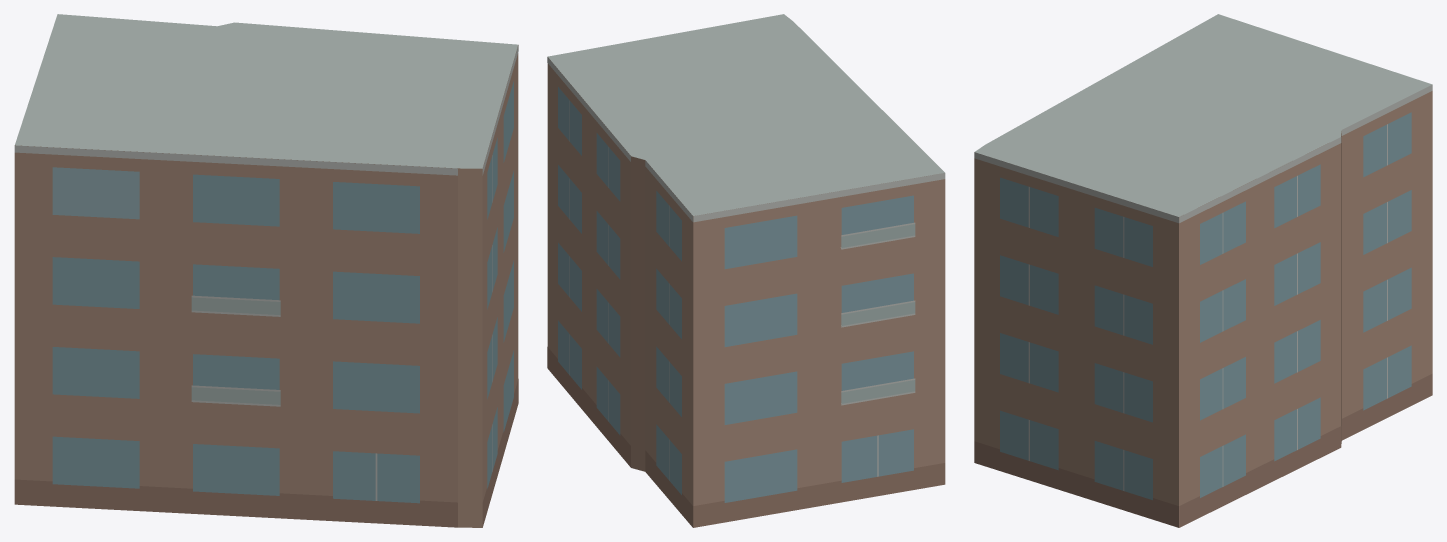
Rendered from survey-upis-32672707.glb.
3 views of the same model, side by side, from view 1: azimuth 30°, elevation 25°; view 2: azimuth 150°, elevation 25°; view 3: azimuth 270°, elevation 25° (orthographic). The views are drawn at different scales.
Parts seen in each view (by area): view 1: survey-upis-32672707.tmp; view 2: survey-upis-32672707.tmp; view 3: survey-upis-32672707.tmp.
Boxes of the visible parts, x1,y1,x2,y2 form: survey-upis-32672707.tmp: [14, 14, 518, 527]; survey-upis-32672707.tmp: [547, 14, 945, 527]; survey-upis-32672707.tmp: [974, 14, 1432, 527].
Size of the model in its own units: 17.11 by 12.2 by 16.31.
